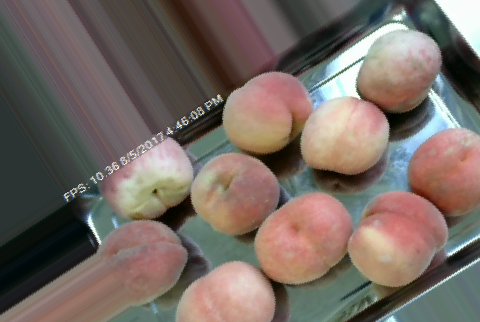Peach: (348, 191, 448, 287), (255, 190, 352, 285), (190, 149, 279, 236), (96, 220, 190, 302), (222, 70, 313, 154), (357, 25, 443, 111), (300, 93, 390, 175), (104, 138, 193, 220), (403, 128, 480, 214), (176, 260, 276, 321)
